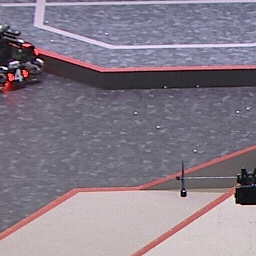Red: (7, 69, 28, 81)
Robot: (1, 24, 45, 89)
